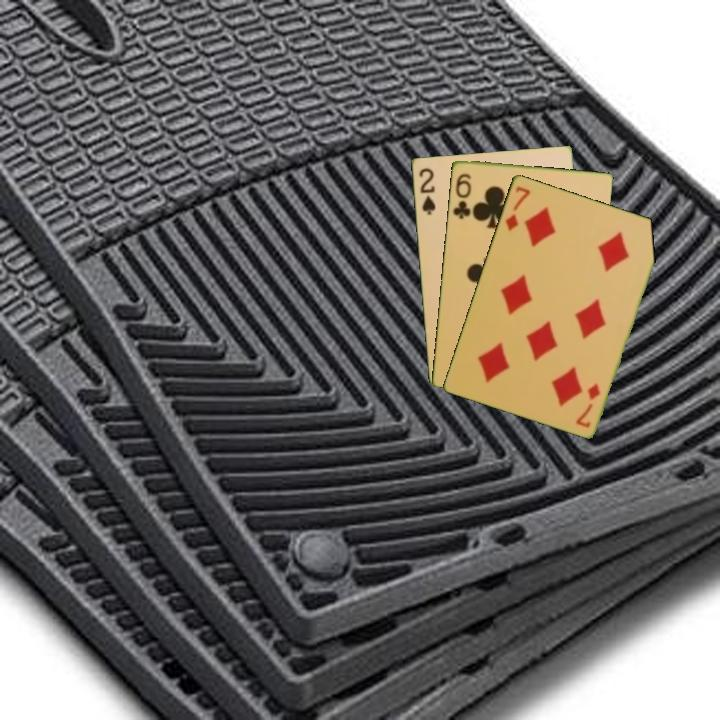2s: (415, 164, 438, 217)
6c: (449, 169, 474, 222)
7d: (501, 182, 533, 234), (573, 379, 603, 430)
